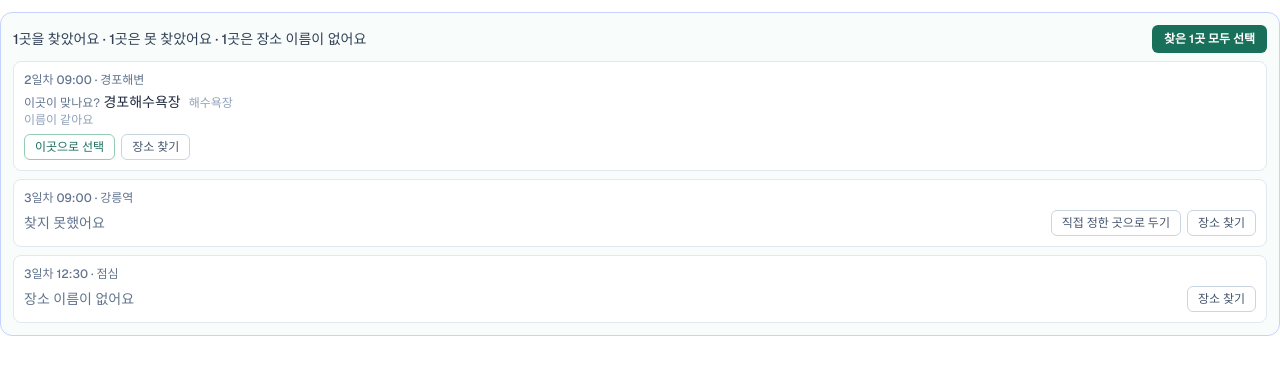
Test case: 기획 에이전트 카드 — 어느 일정 줄인지 (#887 리뷰 · 가이드 7-2 · 7-3) › [장소 찾기]로 칸을 연 동안에도 어느 줄인지 남긴다
Click the button "장소 찾기" in the row of "찾지 못했어요". click: click(1221, 223)
box: [1187,210,1256,236]
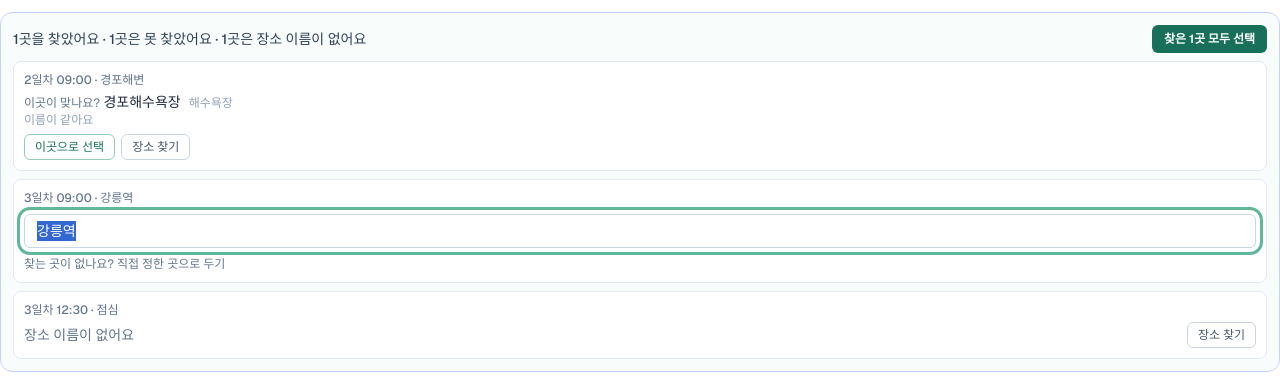
Expected: the field named "장소 이름" is shown, [24,214,1256,248]
